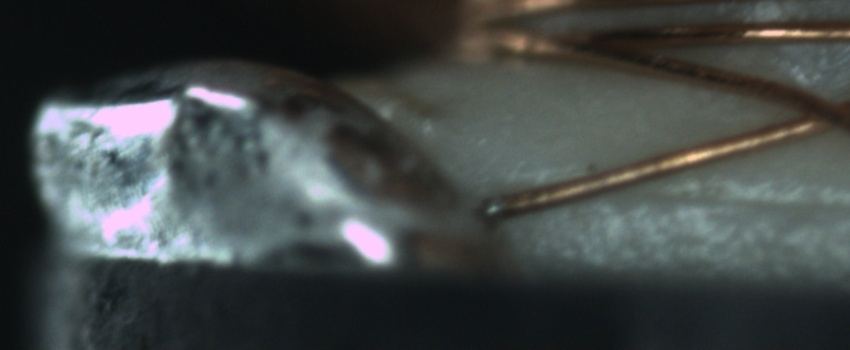CL: (769, 81, 846, 141)
DL: (570, 169, 850, 233)
TS: (486, 195, 506, 220)
